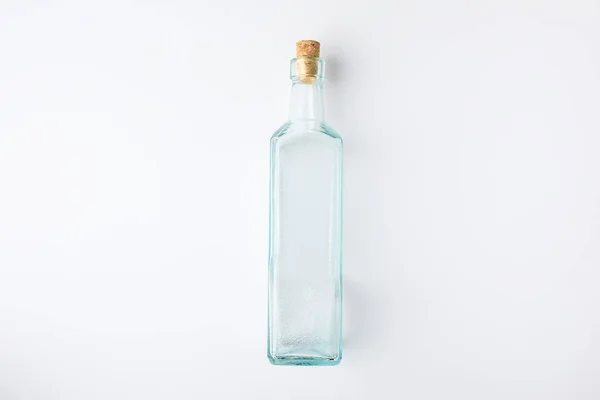glass_bottle: (252, 27, 365, 378)
